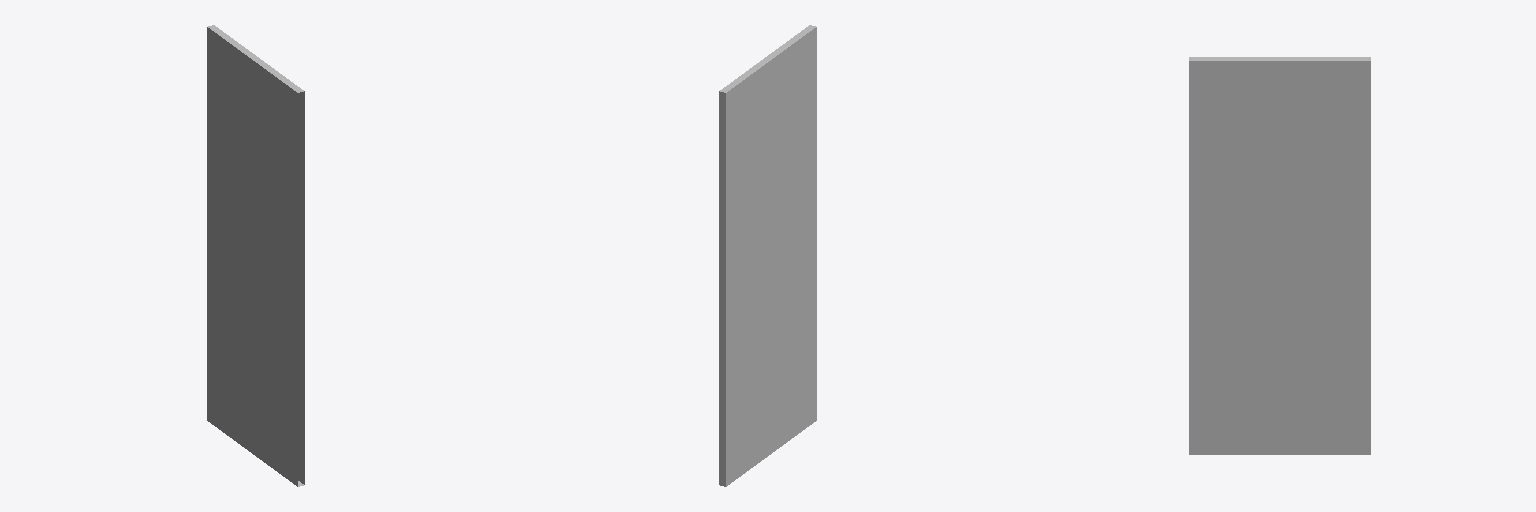
The model's file is original-9.obj.
The picture shows the model from 3 angles: view 1: azimuth 30°, elevation 25°; view 2: azimuth 150°, elevation 25°; view 3: azimuth 270°, elevation 25°; orthographic projection.
Parts seen in each view (by area): view 1: S_1_1/S_1/mesh7/mesh7-geometry#mesh7-geometry; view 2: S_1_1/S_1/mesh7/mesh7-geometry#mesh7-geometry; view 3: S_1_1/S_1/mesh7/mesh7-geometry#mesh7-geometry.
Boxes of the visible parts, x1=… form: S_1_1/S_1/mesh7/mesh7-geometry#mesh7-geometry: x1=207, y1=25, x2=304, y2=486; S_1_1/S_1/mesh7/mesh7-geometry#mesh7-geometry: x1=719, y1=25, x2=816, y2=486; S_1_1/S_1/mesh7/mesh7-geometry#mesh7-geometry: x1=1189, y1=57, x2=1370, y2=454.
Size of the model in its own units: 0.0234 by 1.26 by 0.5266.